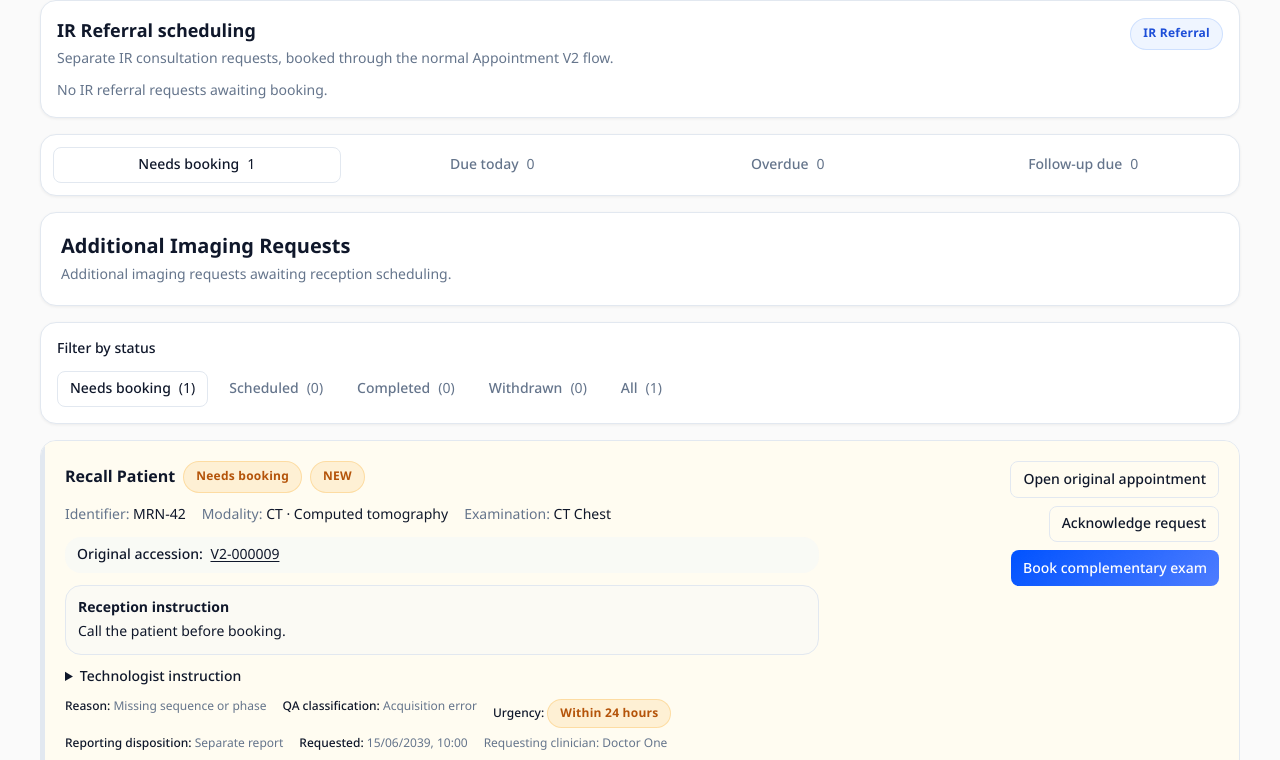
Test: Recall Requests metadata › acknowledges pending reception requests and renders the acknowledgement
This screenshot has width=1280, height=760.
Click the button "Acknowledge request" at (1134,524), box [1049,506,1219,542]
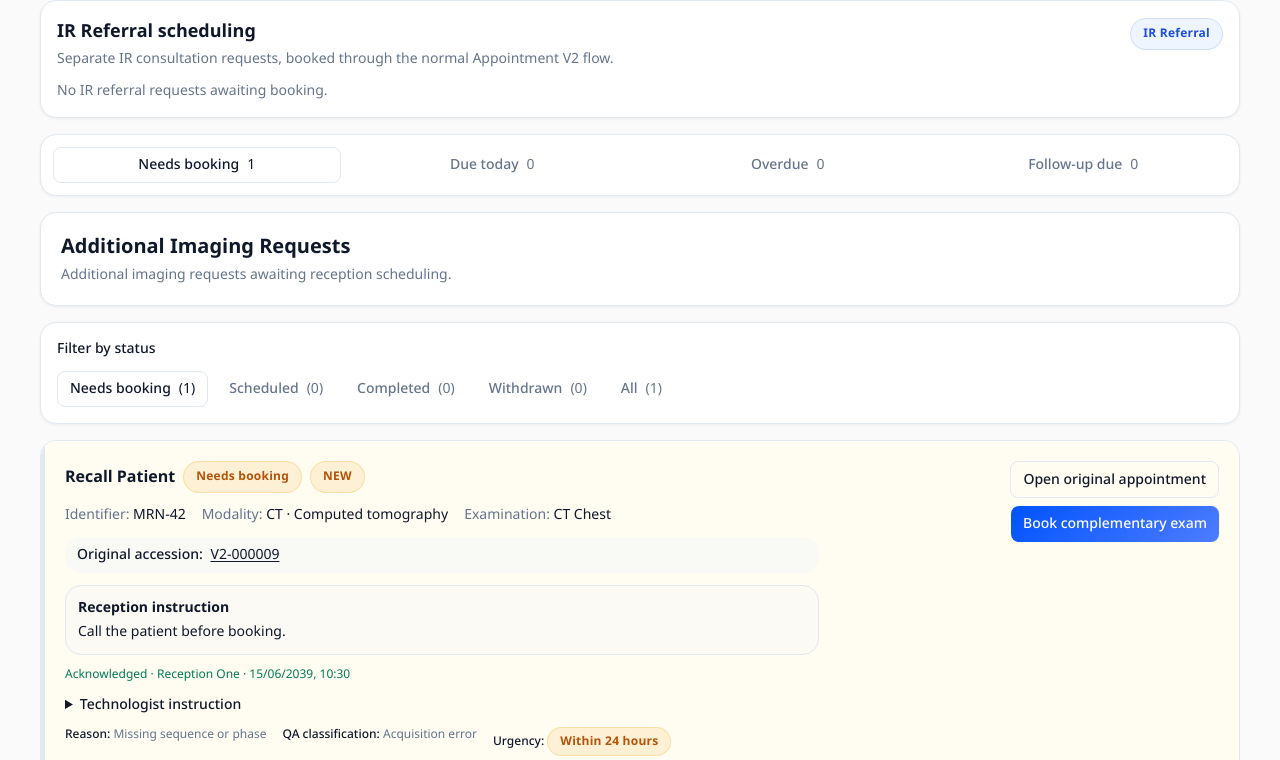
Check: the text "Acknowledged · Reception One · 15/06/2039, 10:30" is shown, box [65,662,350,687]
Check: the button "Acknowledge request" is gone
